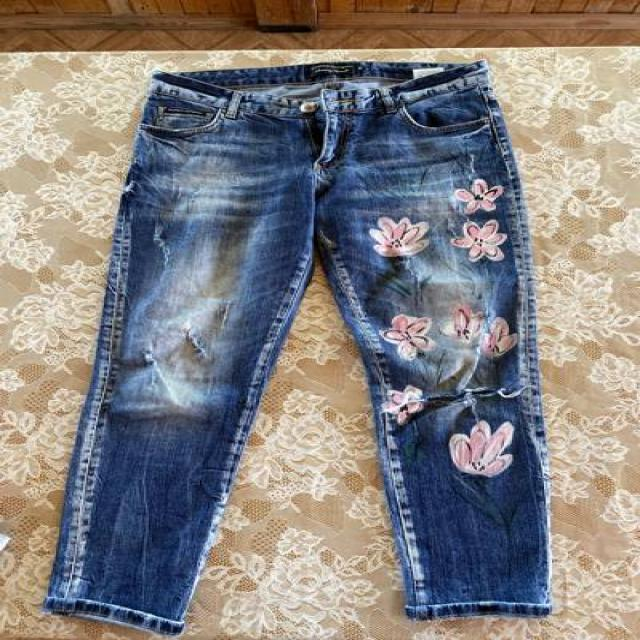Clothes -Biodegradable-: (37, 61, 551, 633)
